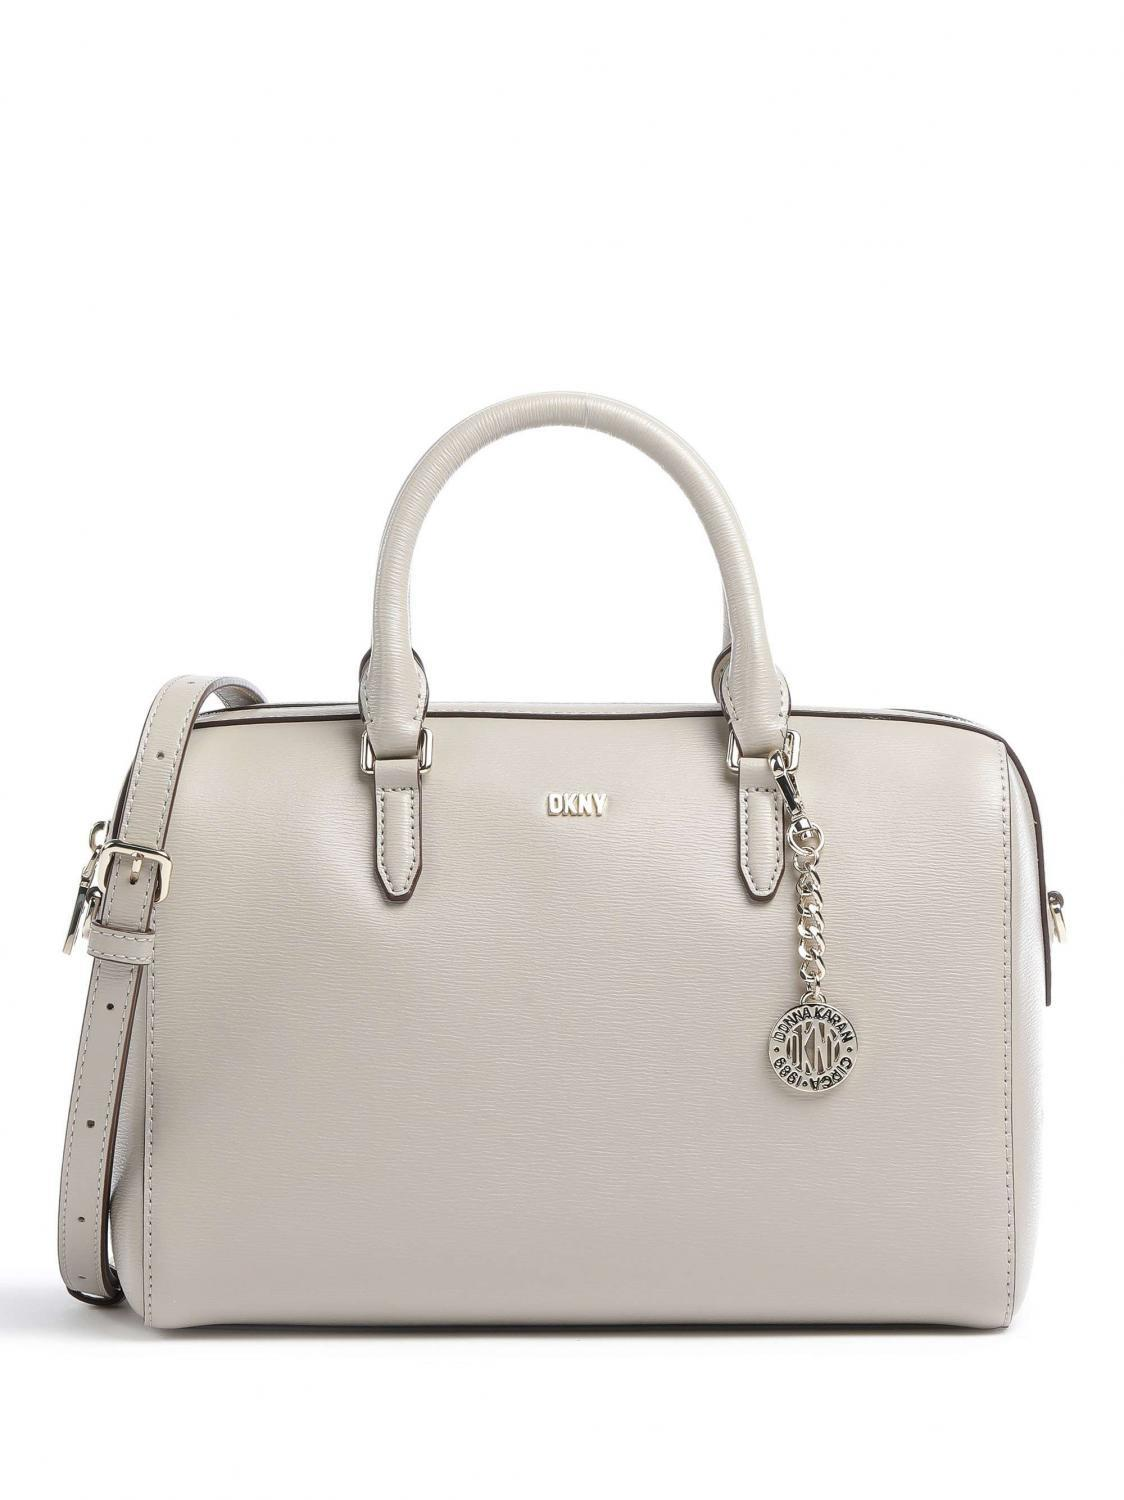DKNY: (547, 792, 608, 815)
